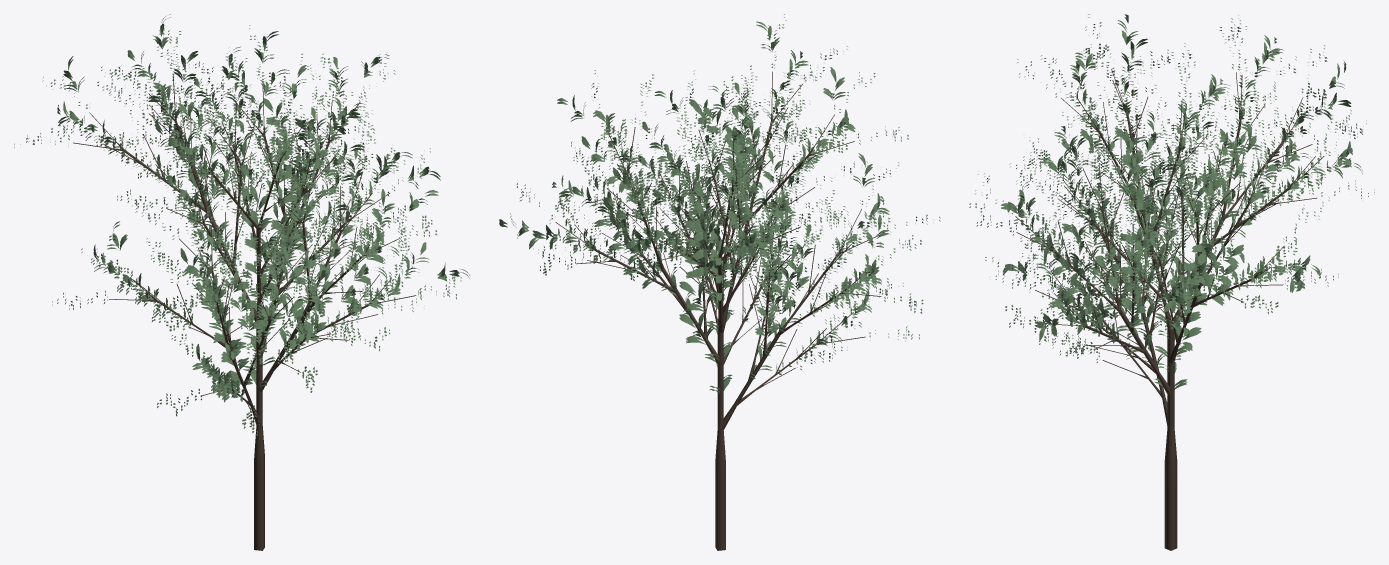
Rendered from SM_Pomegranate_Tree.fbx.
The picture shows the model from 3 angles, left to right: view 1: azimuth 30°, elevation 25°; view 2: azimuth 150°, elevation 25°; view 3: azimuth 270°, elevation 25°; orthographic projection. The views are drawn at different scales.
Parts seen in each view (by area): view 1: lsysJ, huashiliu:lsysJ, huashiliu:Mesh; view 2: lsysJ, huashiliu:lsysJ, huashiliu:Mesh; view 3: lsysJ, huashiliu:lsysJ, huashiliu:Mesh.
Part boxes in pixels (left/top/right/bottom): lsysJ: left=14, top=14, right=469, bottom=432; huashiliu:lsysJ: left=14, top=17, right=469, bottom=435; huashiliu:Mesh: left=73, top=73, right=416, bottom=550; lsysJ: left=499, top=14, right=940, bottom=390; huashiliu:lsysJ: left=499, top=17, right=940, bottom=393; huashiliu:Mesh: left=555, top=71, right=884, bottom=550; lsysJ: left=969, top=14, right=1374, bottom=386; huashiliu:lsysJ: left=969, top=17, right=1374, bottom=390; huashiliu:Mesh: left=1015, top=69, right=1324, bottom=550.
Size of the model in its own units: 326 by 417 by 304.
